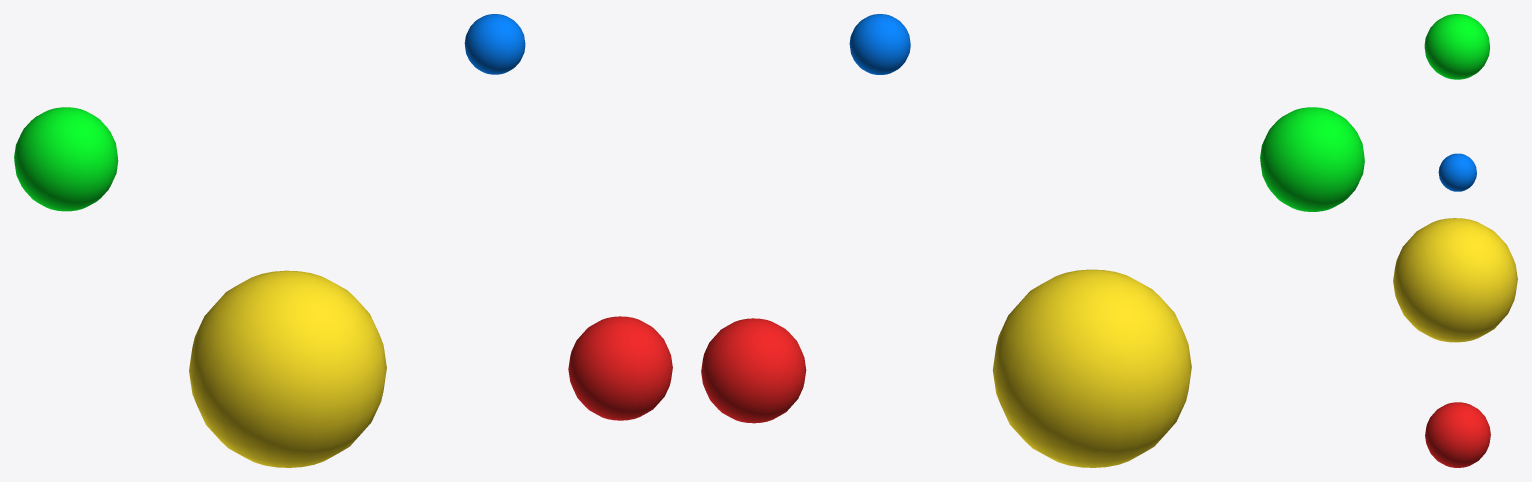
The model's file is asset.gltf.
The picture shows the model from 3 angles, left to right: view 1: azimuth 30°, elevation 25°; view 2: azimuth 150°, elevation 25°; view 3: azimuth 270°, elevation 25°; orthographic projection. The views are drawn at different scales.
Visible parts, largest first — view 1: Sphere, Sphere_2, Circle, Sphere_3; view 2: Sphere, Sphere_2, Circle, Sphere_3; view 3: Sphere, Sphere_2, Circle, Sphere_3.
Boxes of the visible parts, x1,y1,x2,y2 form: Sphere: (189, 270, 386, 467); Sphere_2: (14, 107, 118, 211); Circle: (568, 316, 672, 420); Sphere_3: (464, 14, 525, 74); Sphere: (992, 269, 1191, 467); Sphere_2: (1260, 107, 1364, 211); Circle: (701, 318, 806, 423); Sphere_3: (849, 14, 910, 74); Sphere: (1393, 218, 1517, 342); Sphere_2: (1424, 14, 1489, 79); Circle: (1425, 402, 1490, 467); Sphere_3: (1438, 153, 1476, 191).
Bounding box in the file's own units: 3.86 × 2.51 × 1.02.
